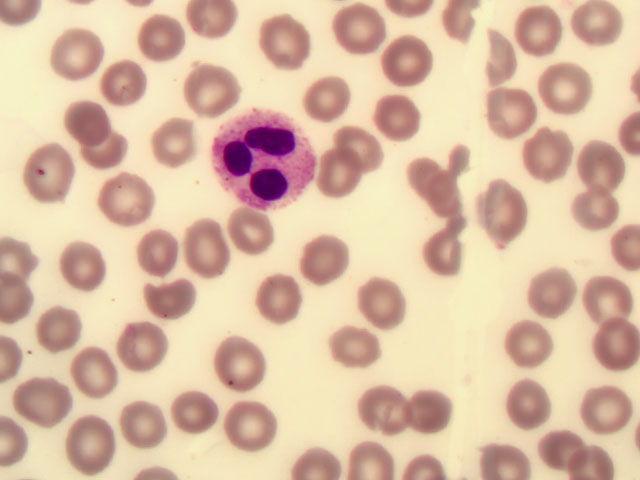RBC: (222, 399, 285, 452), (45, 25, 104, 77), (98, 53, 157, 105), (127, 11, 186, 63), (182, 61, 241, 113), (143, 118, 202, 170), (76, 130, 135, 182), (53, 94, 112, 146), (17, 148, 76, 200), (95, 173, 154, 225), (119, 225, 178, 277), (59, 241, 118, 293), (31, 307, 90, 359), (59, 343, 118, 395), (17, 374, 76, 426), (61, 417, 120, 469), (114, 398, 173, 450), (168, 383, 227, 435), (208, 338, 267, 390), (116, 320, 175, 372), (138, 273, 197, 325), (177, 223, 236, 275), (218, 204, 277, 256), (251, 273, 310, 325), (299, 235, 358, 287), (354, 276, 413, 328), (325, 322, 384, 374), (354, 390, 413, 442), (395, 385, 454, 437), (500, 378, 559, 430), (501, 320, 560, 372), (528, 265, 587, 317), (581, 275, 640, 327), (581, 322, 640, 374), (581, 381, 640, 433), (568, 189, 627, 241), (571, 143, 630, 195), (518, 129, 577, 181), (471, 184, 530, 236), (405, 165, 464, 217), (337, 122, 396, 174), (317, 150, 376, 202), (301, 75, 360, 127), (256, 16, 315, 68), (331, 4, 390, 56), (381, 36, 440, 88), (487, 81, 546, 133), (536, 60, 595, 112), (511, 8, 570, 60), (567, 1, 626, 53), (182, 1, 241, 52), (474, 444, 530, 480)
WBC: (216, 113, 317, 209)
